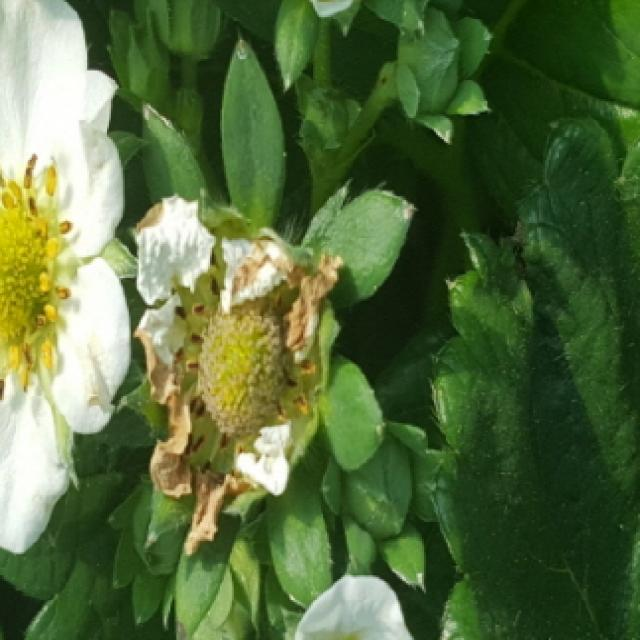Blossom Blight: (170, 247, 317, 488), (0, 150, 77, 403)
